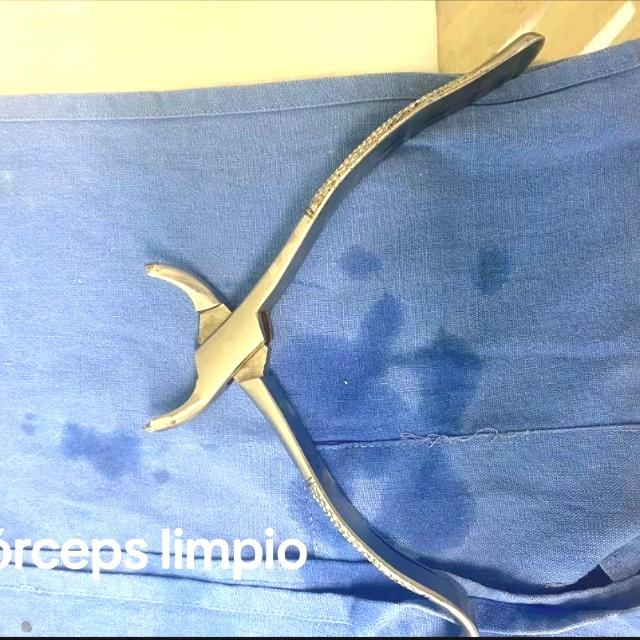forceps: (146, 34, 547, 639)
